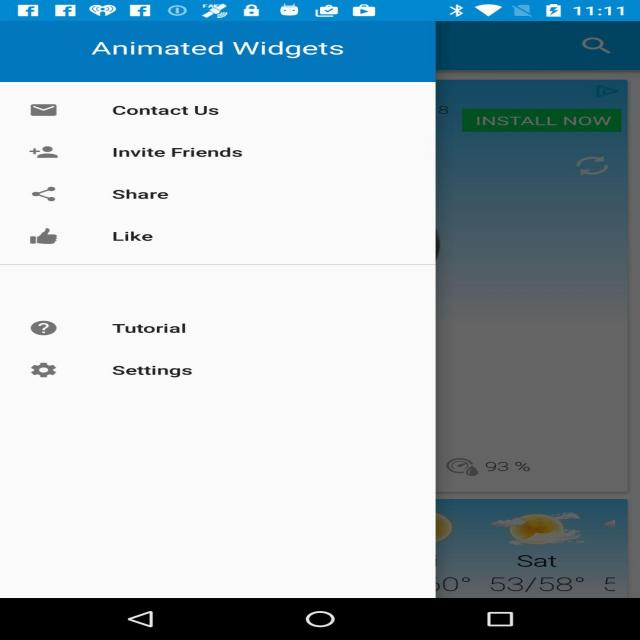icon: (26, 94, 90, 447)
text: (90, 87, 356, 419)
